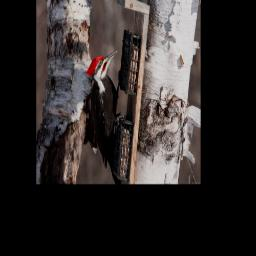Woodpecker: (84, 49, 125, 169)
